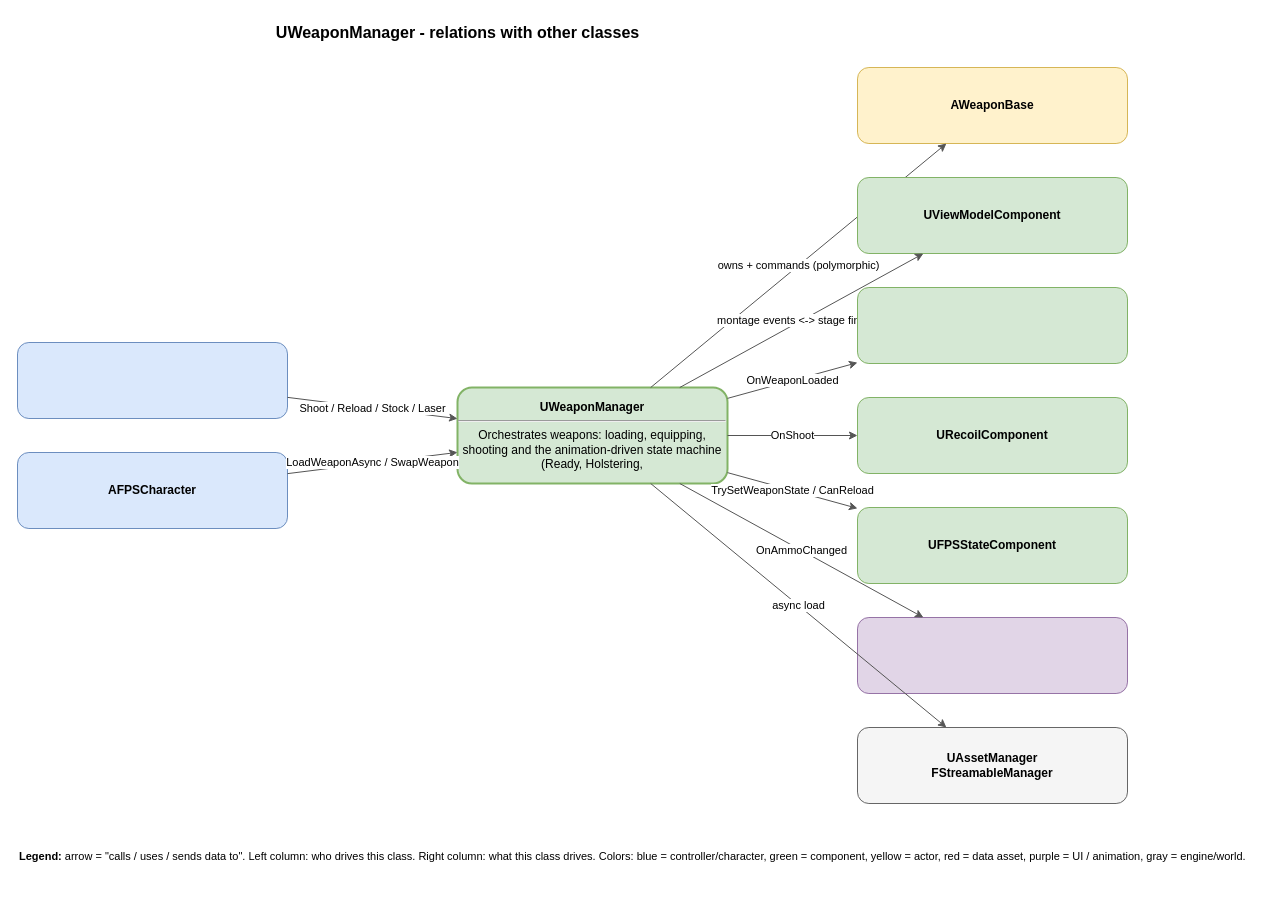
Image size: 1264x900. Some labels were removed from this diagram. Here are the shapes that lost their labels. From the top down, the centre of each, then its label:
At [992,325]: "UInventoryComponent".
At [152,380]: "AFPSPlayerController".
At [992,655]: "UFPSWidget (HUD)".
